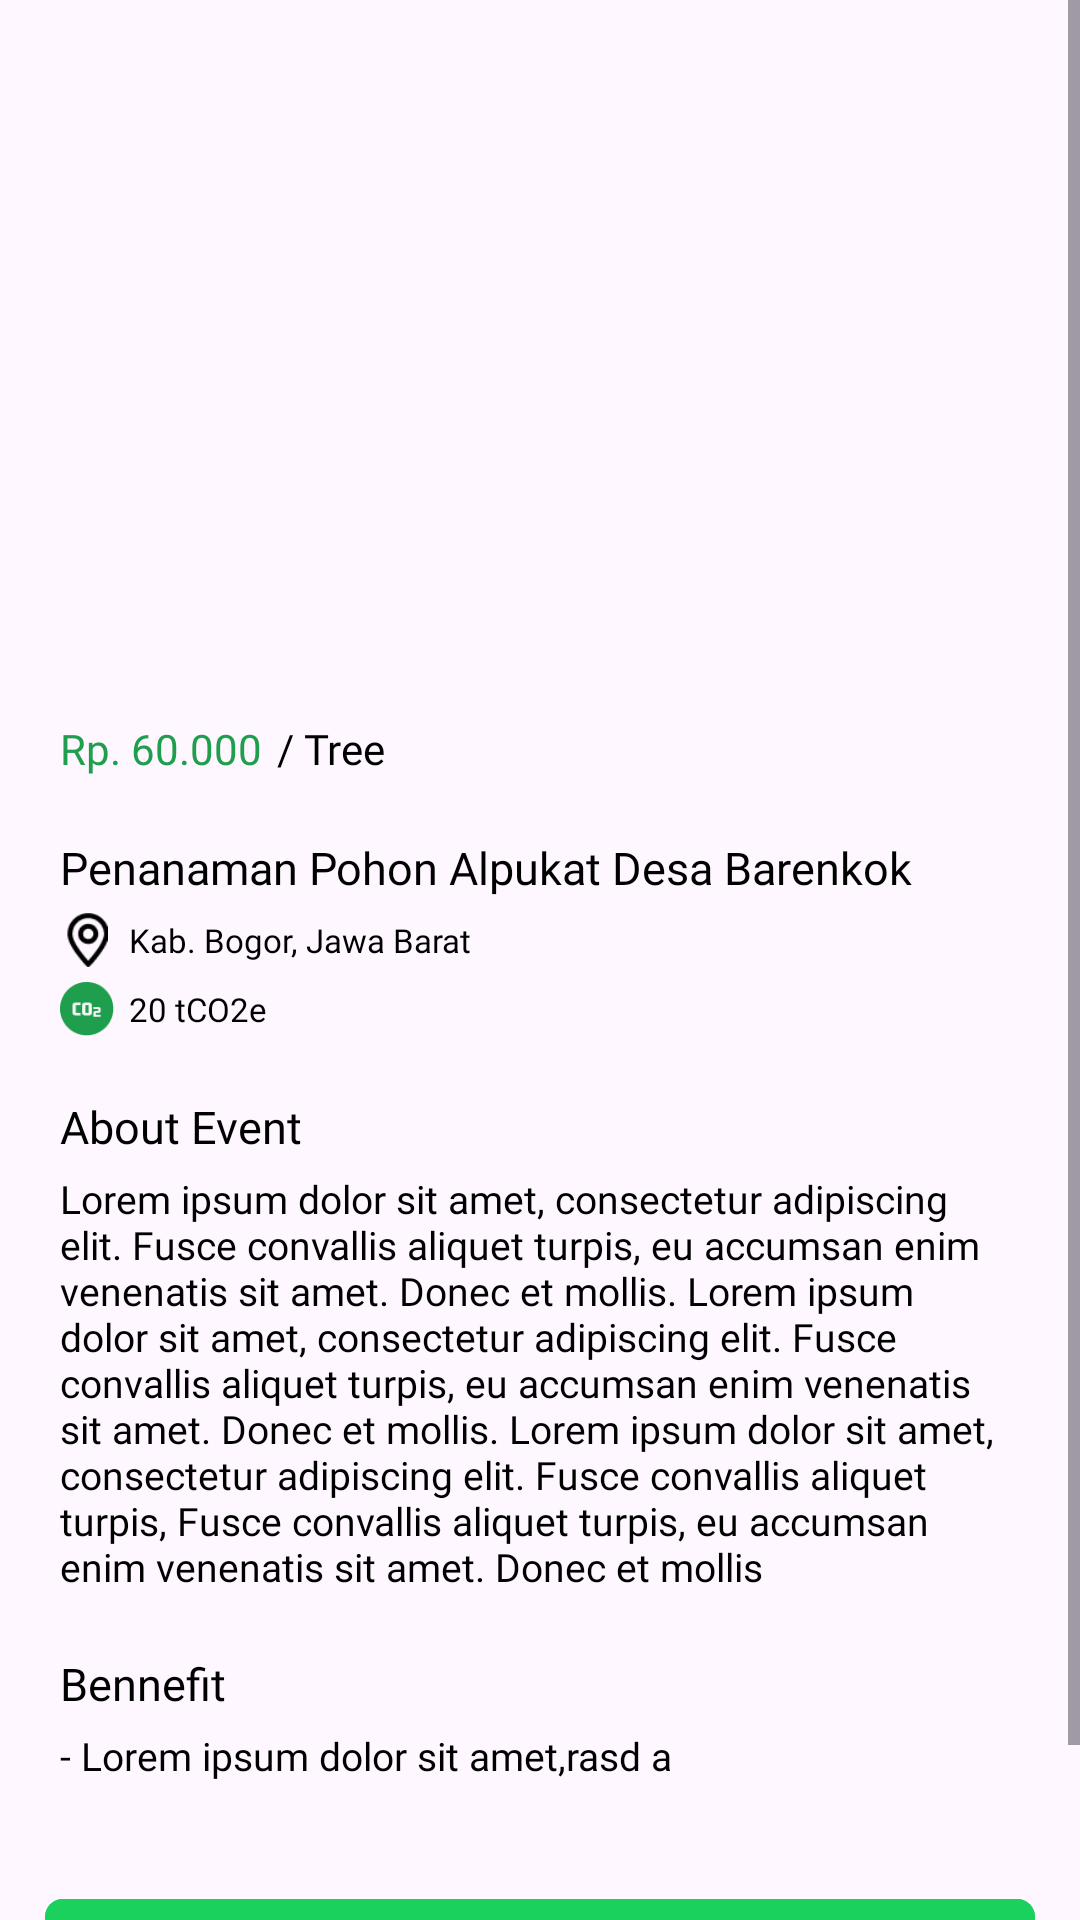

Locate icon controls on the screen. Image size 1080x1920, boxes as {"left": x1, "top": y1, "right": x2, "bottom": y2}.
location: {"left": 67, "top": 913, "right": 108, "bottom": 967}
ton co: {"left": 60, "top": 982, "right": 114, "bottom": 1036}
